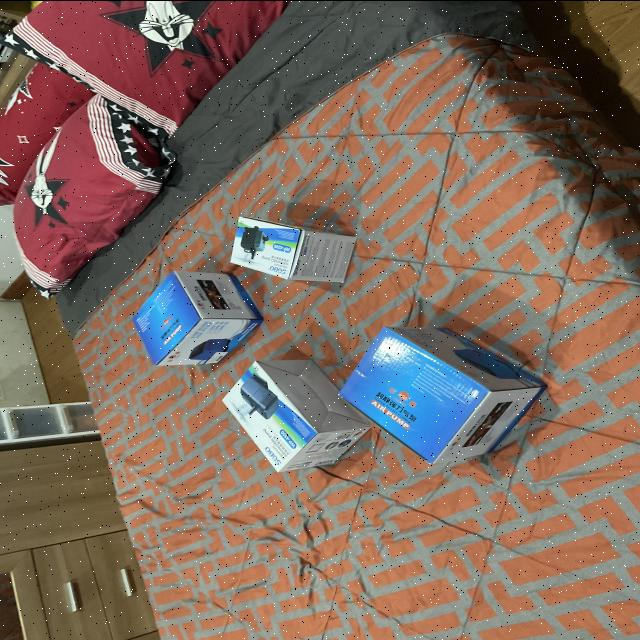SOBO_WP_4200: (213, 351, 367, 468), (222, 201, 366, 283)
YAMANO_LPP_20: (346, 317, 556, 465), (116, 264, 264, 366)
